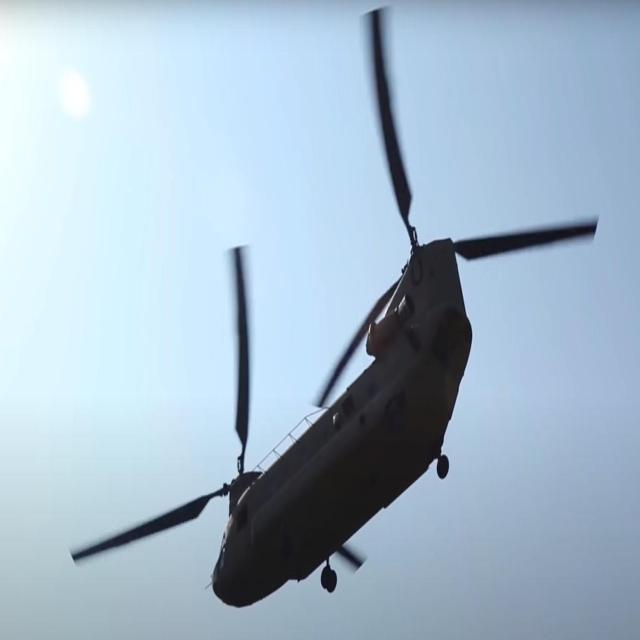Helicopter: (160, 76, 551, 600)
